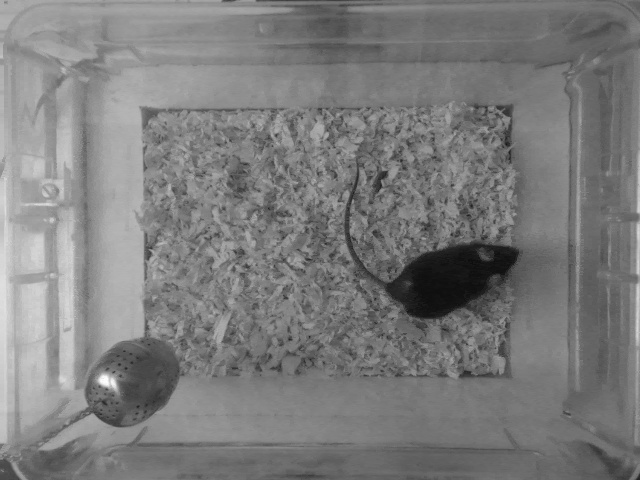mice: (340, 161, 521, 318)
